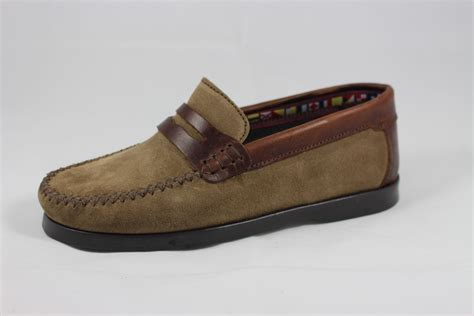gamuza: (38, 78, 389, 232)
